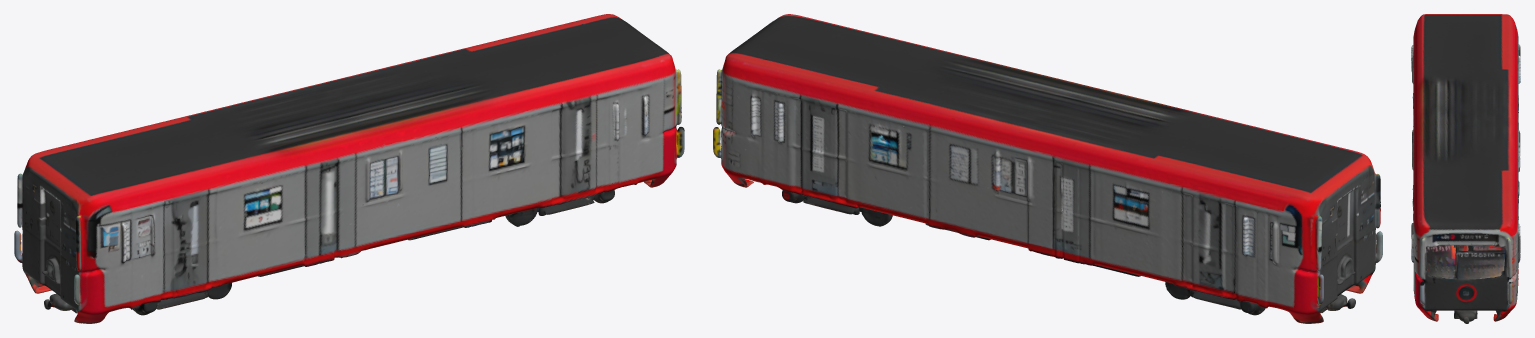
The model's file is poezd1.fbx.
3 views of the same model, side by side, from view 1: azimuth 30°, elevation 25°; view 2: azimuth 150°, elevation 25°; view 3: azimuth 270°, elevation 25° (orthographic). The views are drawn at different scales.
Visible parts, largest first — view 1: tripo_node_23237071; view 2: tripo_node_23237071; view 3: tripo_node_23237071.
Boxes of the visible parts, x1,y1,x2,y2 form: tripo_node_23237071: [14, 14, 684, 323]; tripo_node_23237071: [713, 14, 1382, 323]; tripo_node_23237071: [1411, 14, 1520, 323].
Size of the model in its own units: 100 by 22.46 by 20.97.
Materials: 1 (1 with a texture image).
